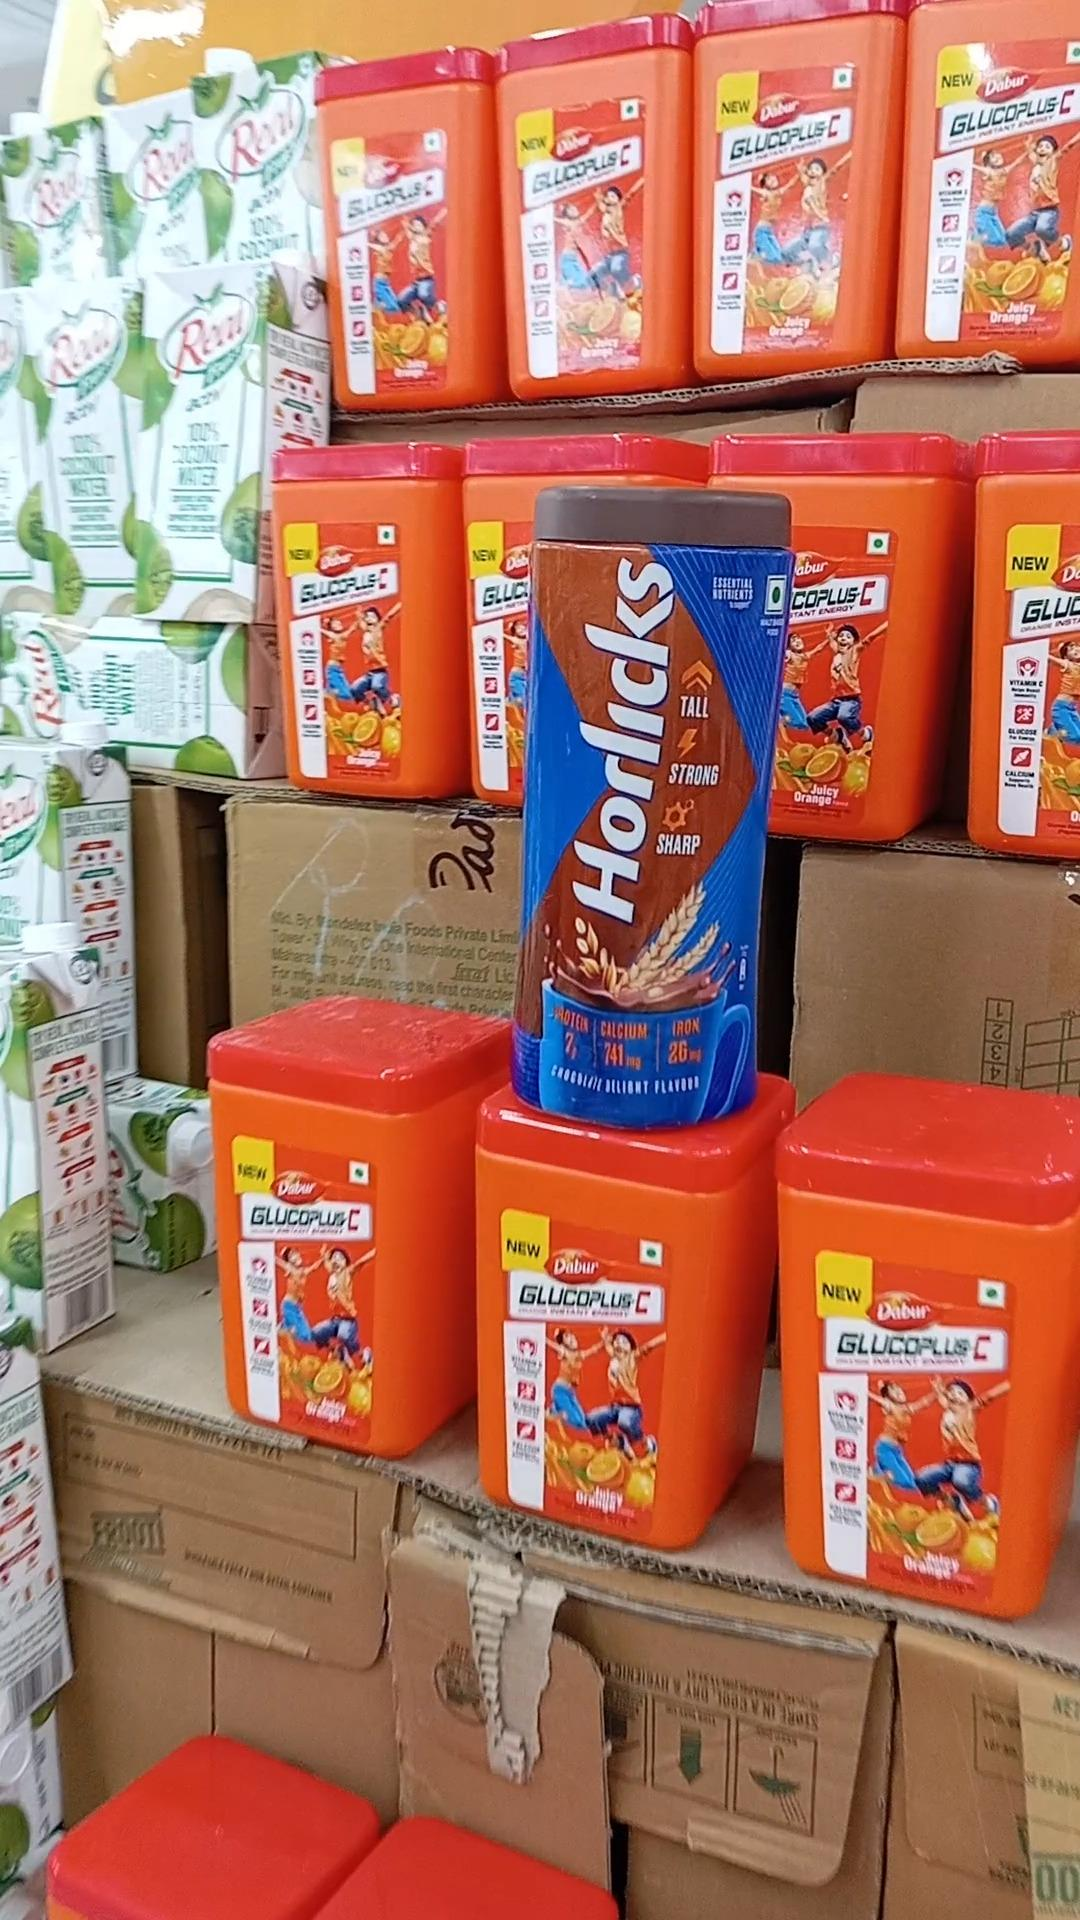HORLICK_CHOCOLATE_1_KG_JAR: (510, 483, 791, 1147)
